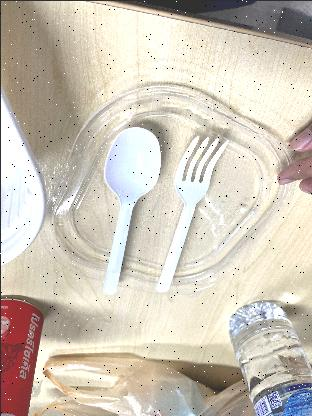Others: (86, 118, 168, 296), (149, 128, 235, 292)
